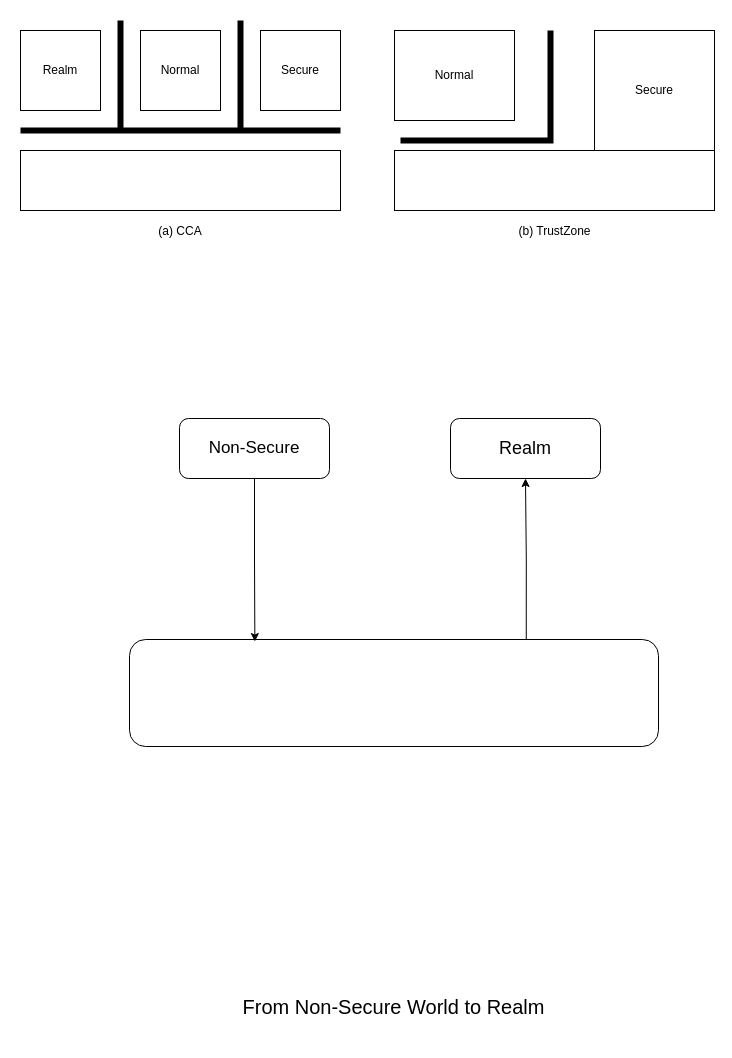
The diagram is 732 pixels wide and 1058 high, and some of its shapes have lost their labels. Here are the shapes that lost their labels. From the top down, the centre of each, then its label:
At point (180, 180): "Root".
At point (554, 180): "Secure Monitor".
At point (393, 692): "EL3".
